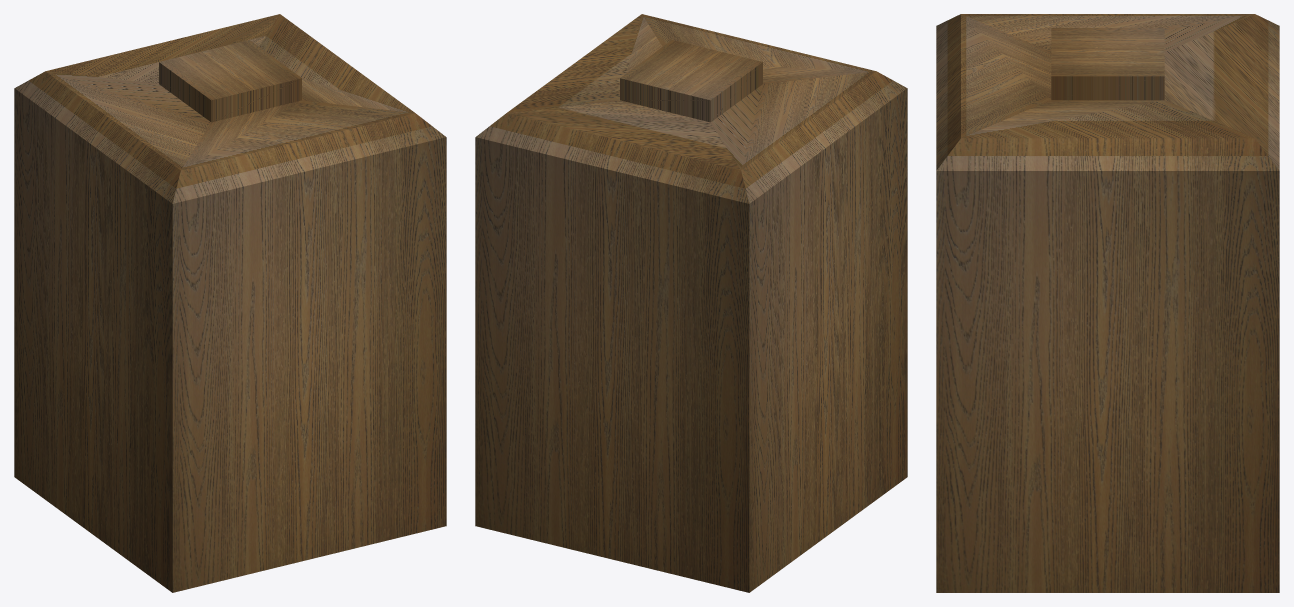
File: Obstacle_047.obj
The picture shows the model from 3 angles, left to right: view 1: azimuth 30°, elevation 25°; view 2: azimuth 150°, elevation 25°; view 3: azimuth 270°, elevation 25°; orthographic projection. The views are drawn at different scales.
Parts seen in each view (by area): view 1: Box110; view 2: Box110; view 3: Box110.
Boxes of the visible parts, x1,y1,x2,y2 form: Box110: (14, 14, 446, 592); Box110: (475, 14, 907, 592); Box110: (936, 14, 1279, 592).
Size of the model in its own units: 27.56 by 41.5 by 27.56.
